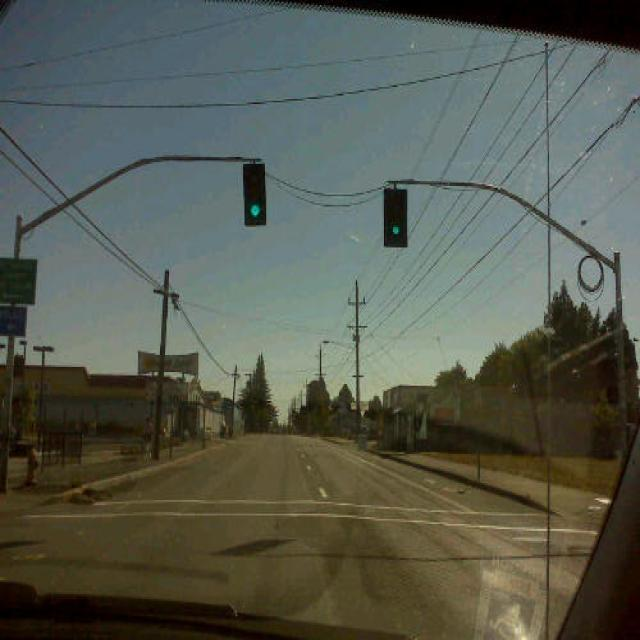fire_hydrant: (24, 447, 40, 487)
